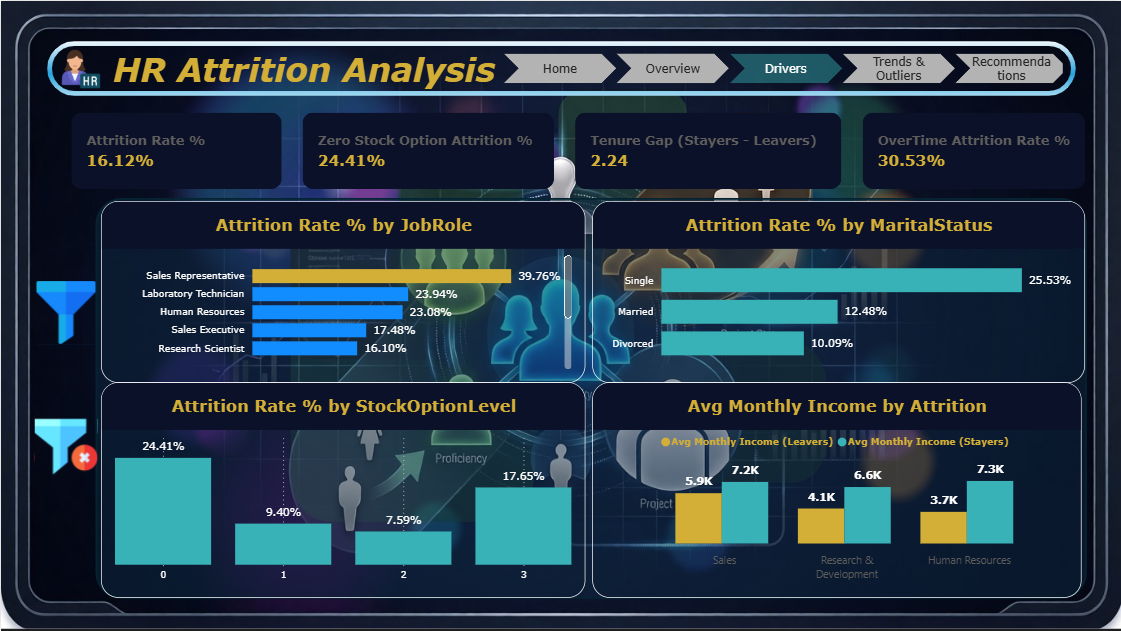

The dashboard page shown, as its layout file describes it:
{"tool":"powerbi","page":{"name":"Drivers","canvas":[1280,720],"ordinal":2},"visuals":[{"type":"textbox","box":[123.1,49.5,451.2,56.7],"z":0},{"type":"image","box":[68.8,48.3,45.8,57.9],"z":1000},{"type":"cardVisual","fields":{"Data":["Measure.Tenure Gap (Stayers - Leavers)"]},"box":[644.4,116.2,328.9,111.3],"z":2000},{"type":"cardVisual","fields":{"Data":["Measure.Zero Stock Option Attrition %"]},"box":[332.6,116.2,311.8,111.3],"z":3000},{"type":"cardVisual","fields":{"Data":["Measure.Attrition Rate %"]},"box":[68.5,116.2,264.1,111.3],"z":4000},{"type":"cardVisual","fields":{"Data":["Measure.OverTime Attrition Rate %"]},"box":[973.3,116.2,278.8,111.3],"z":5000},{"type":"pageNavigator","box":[574.3,60.3,639.4,35],"z":6000},{"type":"clusteredBarChart","title":"Attrition Rate % by JobRole","fields":{"Category":["Dim_JobRole.JobRole"],"Y":["Measure.Attrition Rate %"]},"box":[114.7,228.1,553.8,208.3],"z":7000},{"type":"clusteredBarChart","title":"Attrition Rate % by MaritalStatus","fields":{"Category":["Dim_MaritalStatus.MaritalStatus"],"Y":["Measure.Attrition Rate %"]},"box":[675.1,228.1,563,208.3],"z":8000},{"type":"clusteredColumnChart","fields":{"Category":["Fact_Employee.StockOptionLevel"],"Y":["Measure.Attrition Rate %"]},"box":[114.7,436.4,553.8,246.6],"z":9000},{"type":"clusteredColumnChart","title":"Avg Monthly Income by Attrition","fields":{"Category":["Dim_Department.Department"],"Y":["Measure.Avg Monthly Income (Leavers)","Measure.Avg Monthly Income (Stayers)"]},"box":[676.4,436.4,559,246.6],"z":10000},{"type":"actionButton","title":"clear filters","box":[34.3,468.6,80,81.4],"z":16250},{"type":"actionButton","title":"Filter Open","box":[34.3,312.9,80,85.7],"z":16500}]}

Visuals, with their boxes in screenshot pixels (x1, y1, x2, y2), scaled from the page's 1280x720 canvas onto the 1121x631 screenshot:
textbox: 108:43:503:93
image: 60:42:100:93
cardVisual - Measure.Tenure Gap (Stayers - Leavers): 564:102:852:199
cardVisual - Measure.Zero Stock Option Attrition %: 291:102:564:199
cardVisual - Measure.Attrition Rate %: 60:102:291:199
cardVisual - Measure.OverTime Attrition Rate %: 852:102:1097:199
pageNavigator: 503:53:1063:84
"Attrition Rate % by JobRole" clusteredBarChart: 100:200:585:382
"Attrition Rate % by MaritalStatus" clusteredBarChart: 591:200:1084:382
clusteredColumnChart - Fact_Employee.StockOptionLevel x Measure.Attrition Rate %: 100:382:585:599
"Avg Monthly Income by Attrition" clusteredColumnChart: 592:382:1082:599
"clear filters" actionButton: 30:411:100:482
"Filter Open" actionButton: 30:274:100:349
